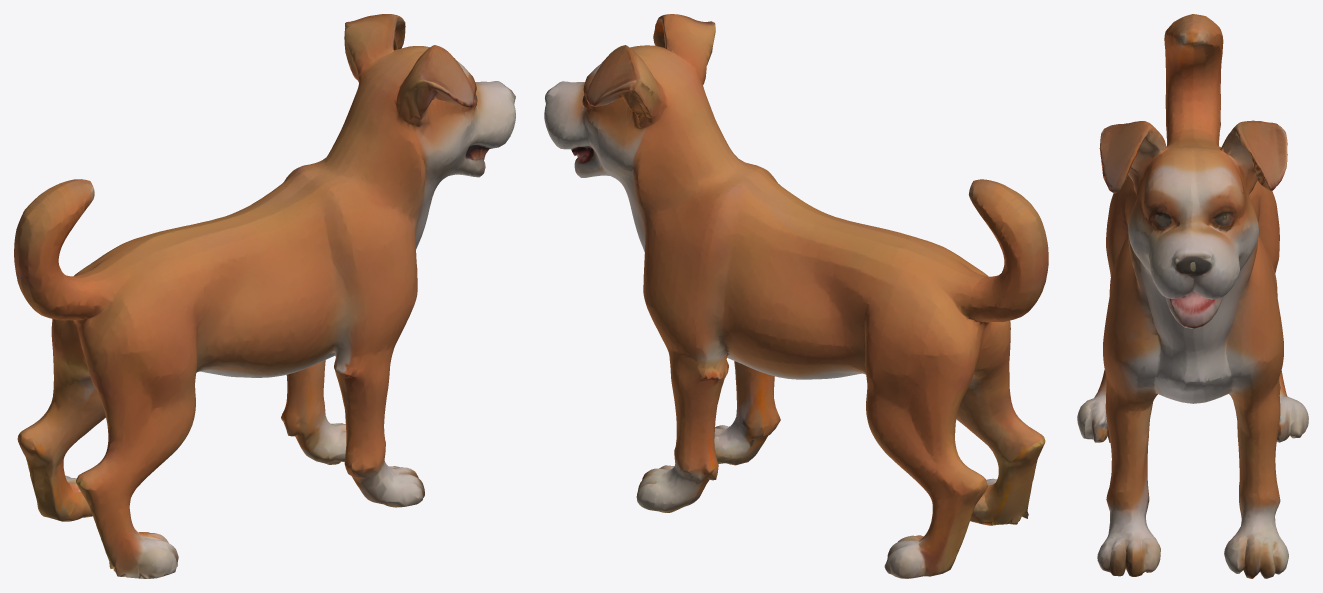
The model's file is dog.glb.
3 renders of one model, left to right at view 1: azimuth 30°, elevation 25°; view 2: azimuth 150°, elevation 25°; view 3: azimuth 270°, elevation 25°, orthographic. The views are drawn at different scales.
Parts seen in each view (by area): view 1: tripo_node_322573bc-45ec-414a-9bf3-c0f937082b6b; view 2: tripo_node_322573bc-45ec-414a-9bf3-c0f937082b6b; view 3: tripo_node_322573bc-45ec-414a-9bf3-c0f937082b6b.
Part boxes in pixels (<box>): tripo_node_322573bc-45ec-414a-9bf3-c0f937082b6b: <box>14,14,515,578</box>; tripo_node_322573bc-45ec-414a-9bf3-c0f937082b6b: <box>544,14,1048,578</box>; tripo_node_322573bc-45ec-414a-9bf3-c0f937082b6b: <box>1077,14,1308,578</box>.
Size of the model in its own units: 1 by 0.858 by 0.3817.
Materials: 1 (1 with a texture image).
